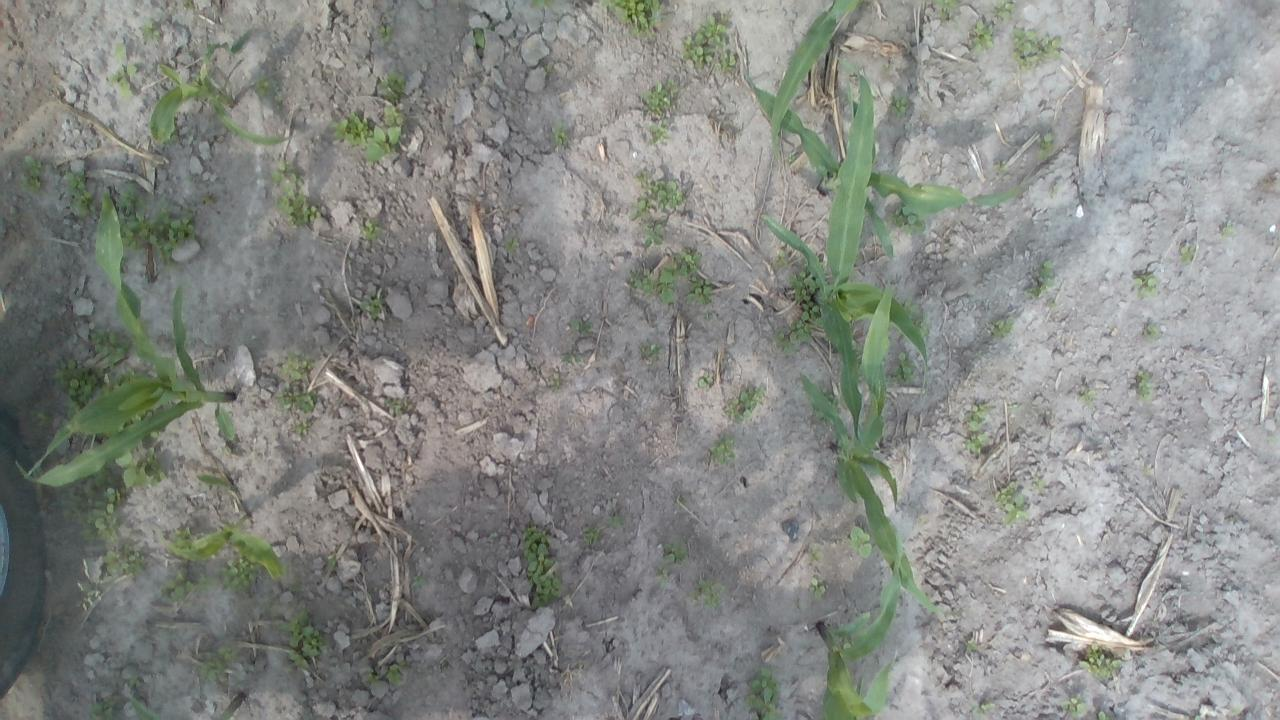Maize: (12, 188, 240, 486), (738, 61, 1054, 264), (758, 75, 928, 443), (792, 282, 944, 615), (819, 525, 902, 720), (766, 0, 859, 159), (154, 476, 288, 582), (150, 59, 296, 148), (121, 685, 242, 720)
Weeds: (326, 102, 408, 162), (148, 205, 207, 271), (269, 157, 322, 226), (278, 606, 335, 670), (520, 522, 562, 608), (61, 490, 122, 546), (50, 356, 100, 416), (110, 178, 150, 250), (678, 14, 730, 68), (598, 0, 662, 40), (114, 444, 168, 488), (744, 662, 784, 720), (1011, 26, 1062, 70), (105, 40, 140, 99), (160, 566, 212, 605), (62, 167, 98, 218), (88, 324, 130, 366), (724, 382, 768, 422), (1077, 641, 1121, 680), (994, 481, 1030, 527), (198, 644, 241, 682), (100, 366, 148, 398), (656, 538, 690, 583), (222, 557, 263, 594), (116, 399, 168, 428), (639, 78, 679, 115), (102, 545, 145, 578), (888, 204, 928, 239), (898, 298, 931, 340), (776, 318, 814, 354), (273, 383, 317, 414), (788, 267, 822, 306), (649, 176, 686, 210), (20, 154, 48, 194), (1026, 261, 1056, 297), (278, 354, 316, 382), (376, 68, 408, 101), (694, 577, 725, 609), (657, 262, 680, 305), (892, 350, 918, 387), (673, 247, 705, 276), (846, 524, 873, 558), (711, 433, 738, 464), (799, 298, 826, 328), (686, 274, 712, 305), (1061, 695, 1091, 720), (89, 696, 120, 720), (971, 20, 994, 52), (362, 294, 388, 322), (1133, 270, 1159, 298), (640, 222, 666, 250), (629, 266, 654, 295), (968, 398, 989, 431), (938, 0, 964, 25), (965, 431, 990, 456), (806, 577, 830, 602), (92, 463, 116, 488), (647, 120, 672, 144), (628, 197, 650, 224), (1136, 370, 1154, 402), (891, 93, 912, 120), (172, 524, 194, 546), (991, 318, 1016, 337), (552, 120, 570, 146), (31, 407, 53, 428), (1039, 132, 1054, 162), (968, 700, 996, 716), (252, 76, 272, 98), (993, 0, 1016, 19), (569, 318, 593, 336), (386, 662, 404, 686), (718, 52, 738, 73), (144, 21, 164, 42), (820, 386, 839, 408), (364, 218, 382, 241), (582, 525, 602, 545), (1180, 242, 1198, 264), (1080, 387, 1098, 408), (80, 589, 96, 611), (814, 406, 832, 425), (697, 369, 714, 389), (561, 350, 583, 365), (606, 514, 628, 529), (471, 26, 486, 48), (377, 22, 393, 42), (502, 236, 520, 253), (410, 574, 428, 590), (294, 420, 312, 436), (1220, 220, 1234, 240), (642, 342, 662, 356), (366, 668, 380, 686), (774, 248, 786, 268), (994, 159, 1010, 174), (1144, 324, 1159, 339), (1031, 479, 1048, 492), (810, 545, 824, 560), (128, 674, 143, 688), (1006, 402, 1026, 412), (530, 0, 552, 9), (634, 168, 648, 182), (966, 638, 979, 653), (1097, 709, 1111, 720), (148, 430, 162, 440), (328, 554, 338, 567), (702, 313, 713, 323), (383, 399, 393, 408)
